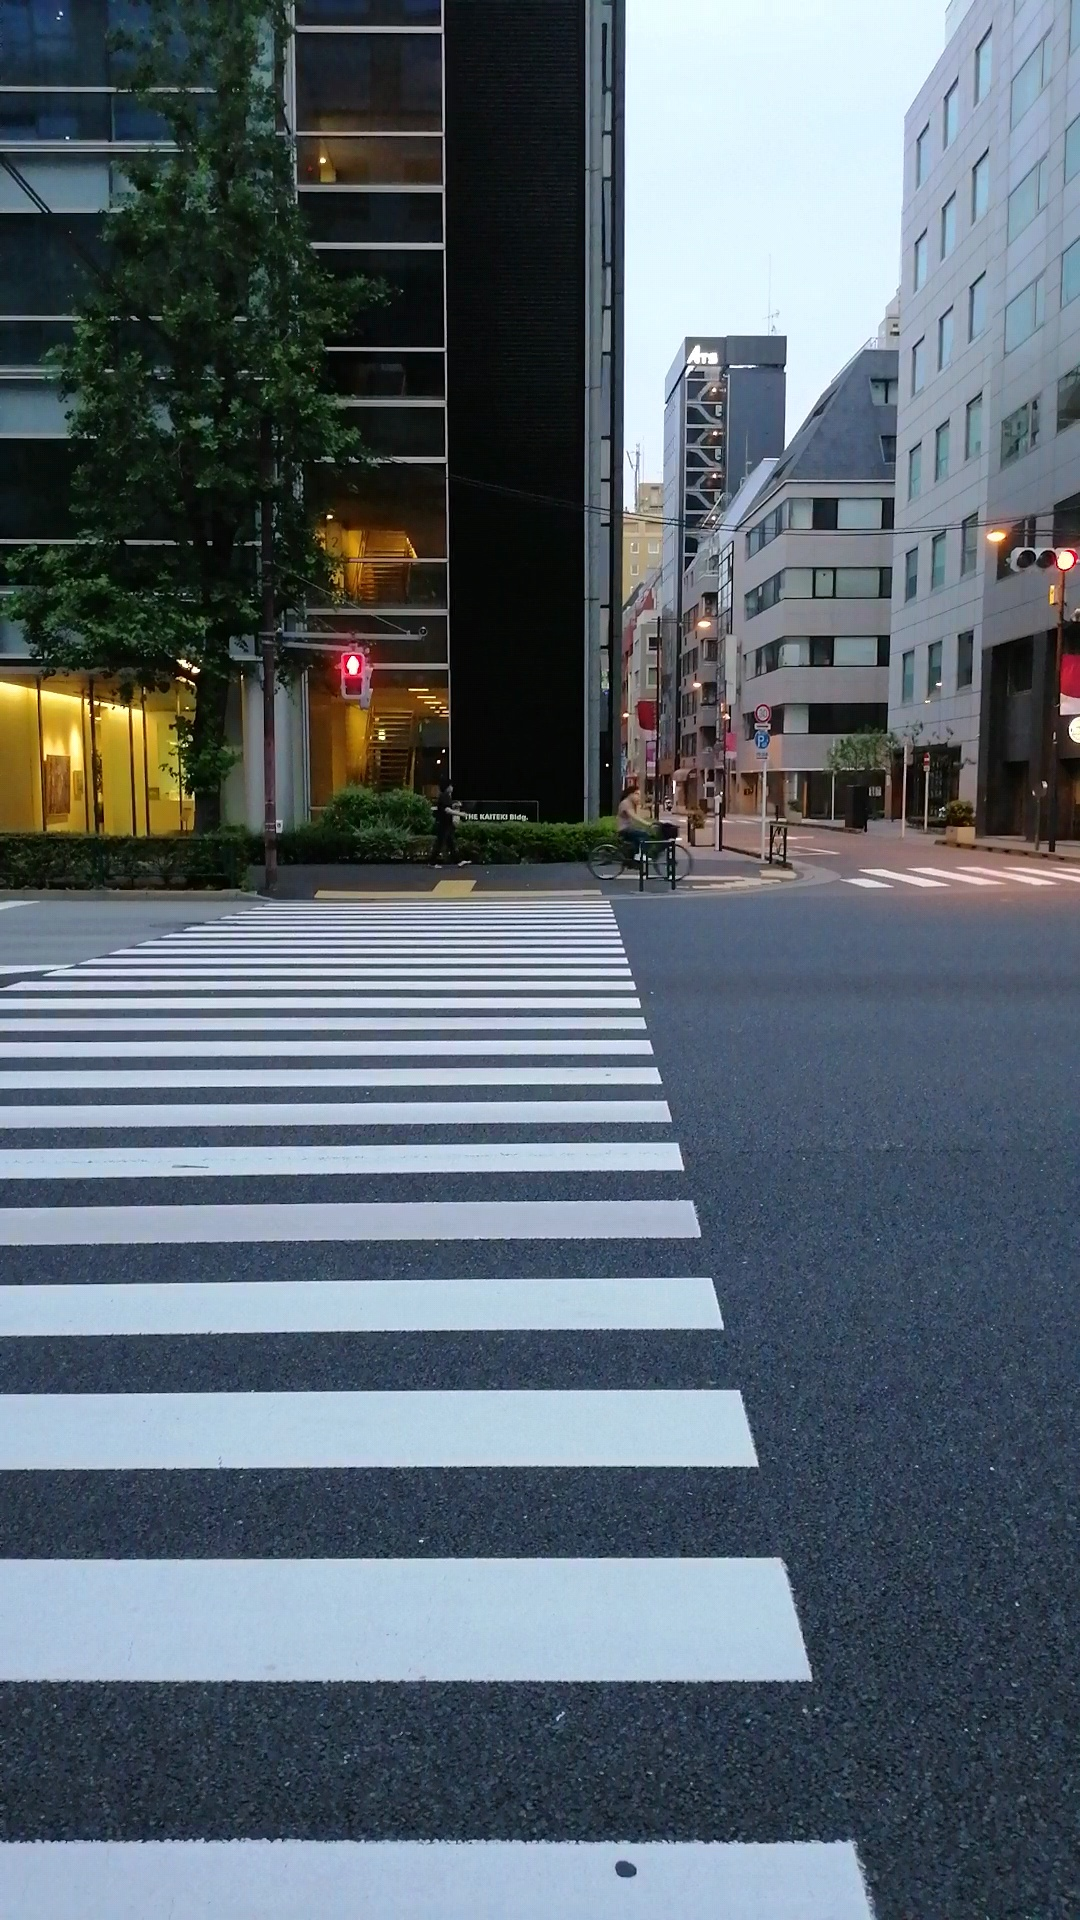red: (340, 650, 367, 698)
